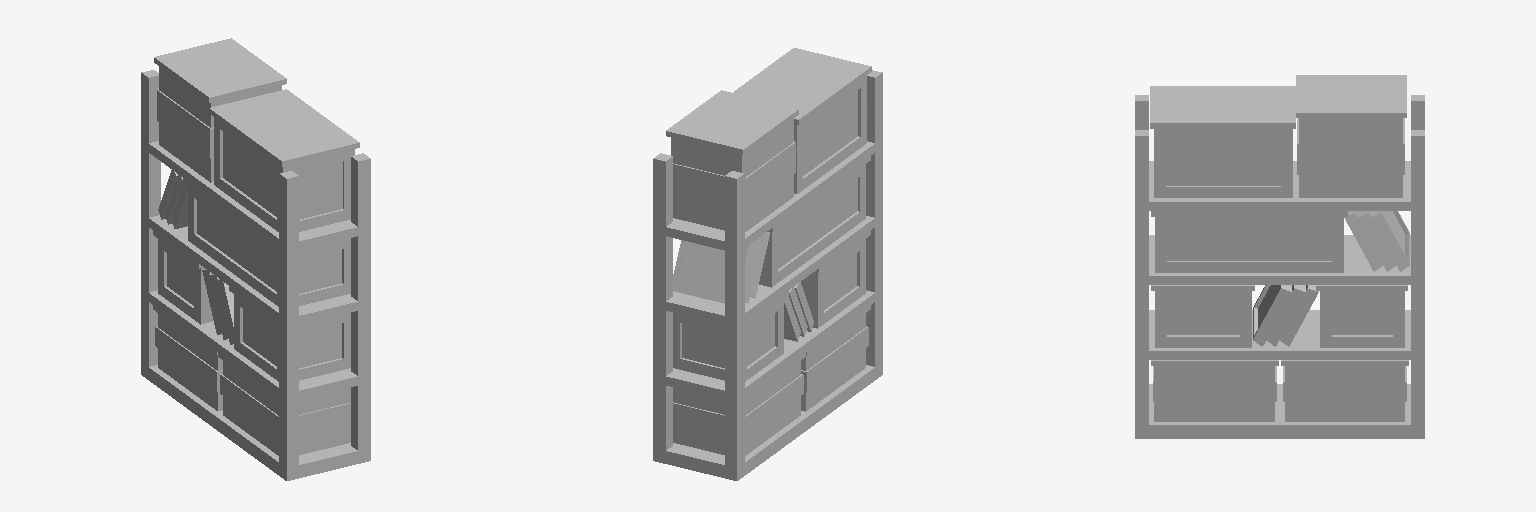
Rendered from shelf_v8_3.obj.
The picture shows the model from 3 angles: view 1: azimuth 30°, elevation 25°; view 2: azimuth 150°, elevation 25°; view 3: azimuth 270°, elevation 25°; orthographic projection.
Visible parts, largest first — view 1: pCube298; view 2: pCube298; view 3: pCube298.
Part boxes in pixels (x1,y1,x2,y2): pCube298: (141, 38, 370, 480); pCube298: (653, 48, 882, 480); pCube298: (1135, 75, 1424, 438).
Size of the model in its own units: 4 by 14.74 by 12.